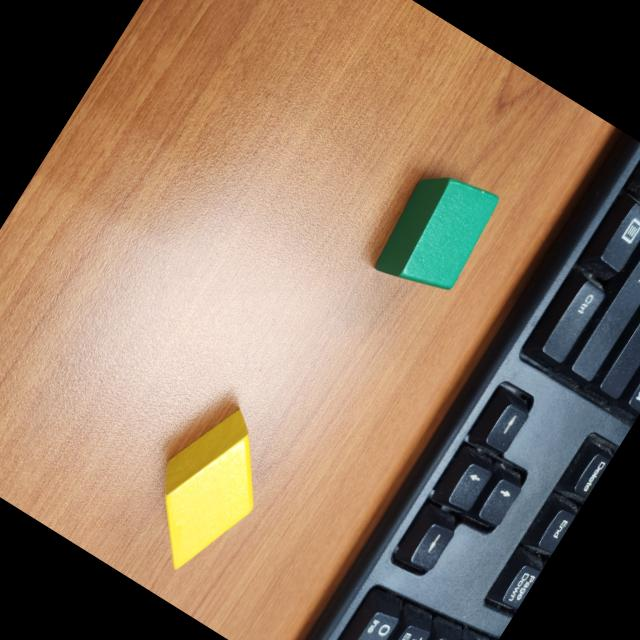green: (363, 152, 508, 312)
yellow: (116, 392, 292, 589)
